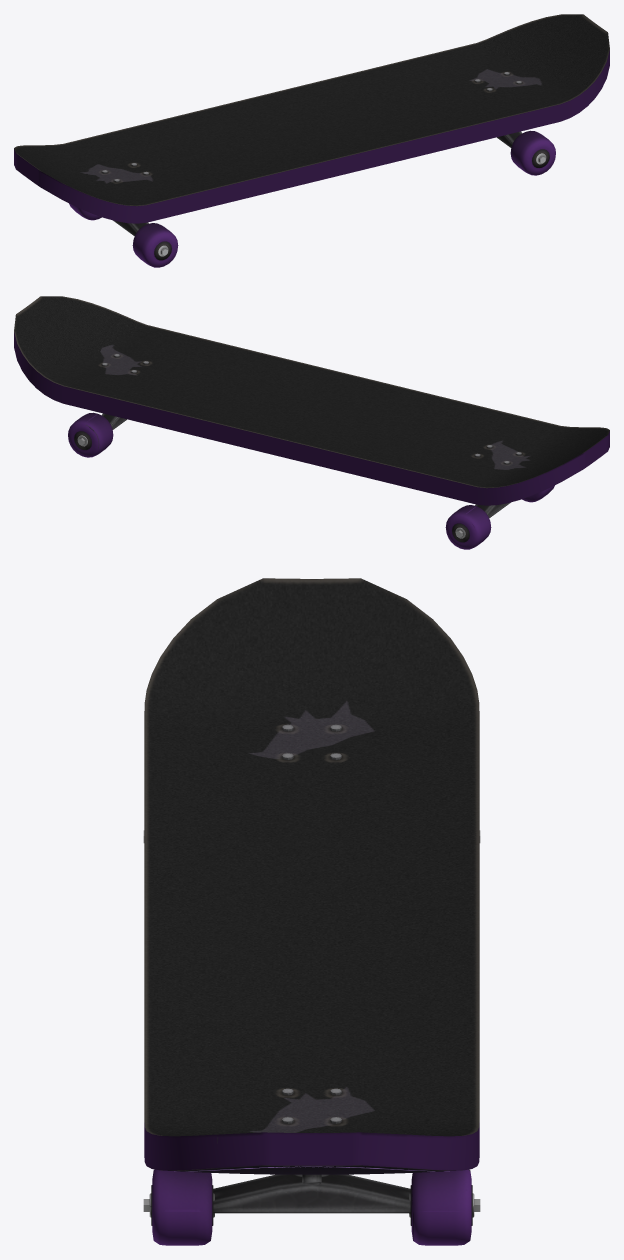
Rendered from SkateboardRavens.fbx.
3 renders of one model, top to bottom at view 1: azimuth 30°, elevation 25°; view 2: azimuth 150°, elevation 25°; view 3: azimuth 270°, elevation 25°, orthographic. The views are drawn at different scales.
Parts seen in each view (by area): view 1: SkateboardRavens_Main, SkateboardRavens_WheelBR, SkateboardRavens_WheelFR; view 2: SkateboardRavens_Main, SkateboardRavens_WheelBL, SkateboardRavens_WheelFL; view 3: SkateboardRavens_Main, SkateboardRavens_TruckF, SkateboardRavens_WheelFL, SkateboardRavens_WheelFR.
Boxes of the visible parts, left/top/right/bottom form: SkateboardRavens_Main: left=14, top=14, right=609, bottom=223; SkateboardRavens_WheelBR: left=132, top=223, right=178, bottom=267; SkateboardRavens_WheelFR: left=510, top=130, right=555, bottom=175; SkateboardRavens_Main: left=14, top=296, right=609, bottom=505; SkateboardRavens_WheelBL: left=445, top=505, right=491, bottom=549; SkateboardRavens_WheelFL: left=68, top=412, right=113, bottom=457; SkateboardRavens_Main: left=144, top=578, right=479, bottom=1174; SkateboardRavens_TruckF: left=213, top=1174, right=410, bottom=1213; SkateboardRavens_WheelFL: left=409, top=1169, right=480, bottom=1245; SkateboardRavens_WheelFR: left=143, top=1169, right=214, bottom=1245.
Bounding box in the file's own units: 544 × 92.43 × 140.
